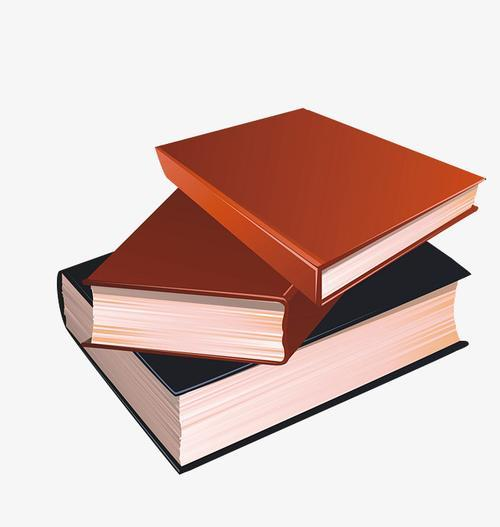book: (36, 174, 489, 484), (146, 96, 495, 310), (79, 128, 362, 377)
